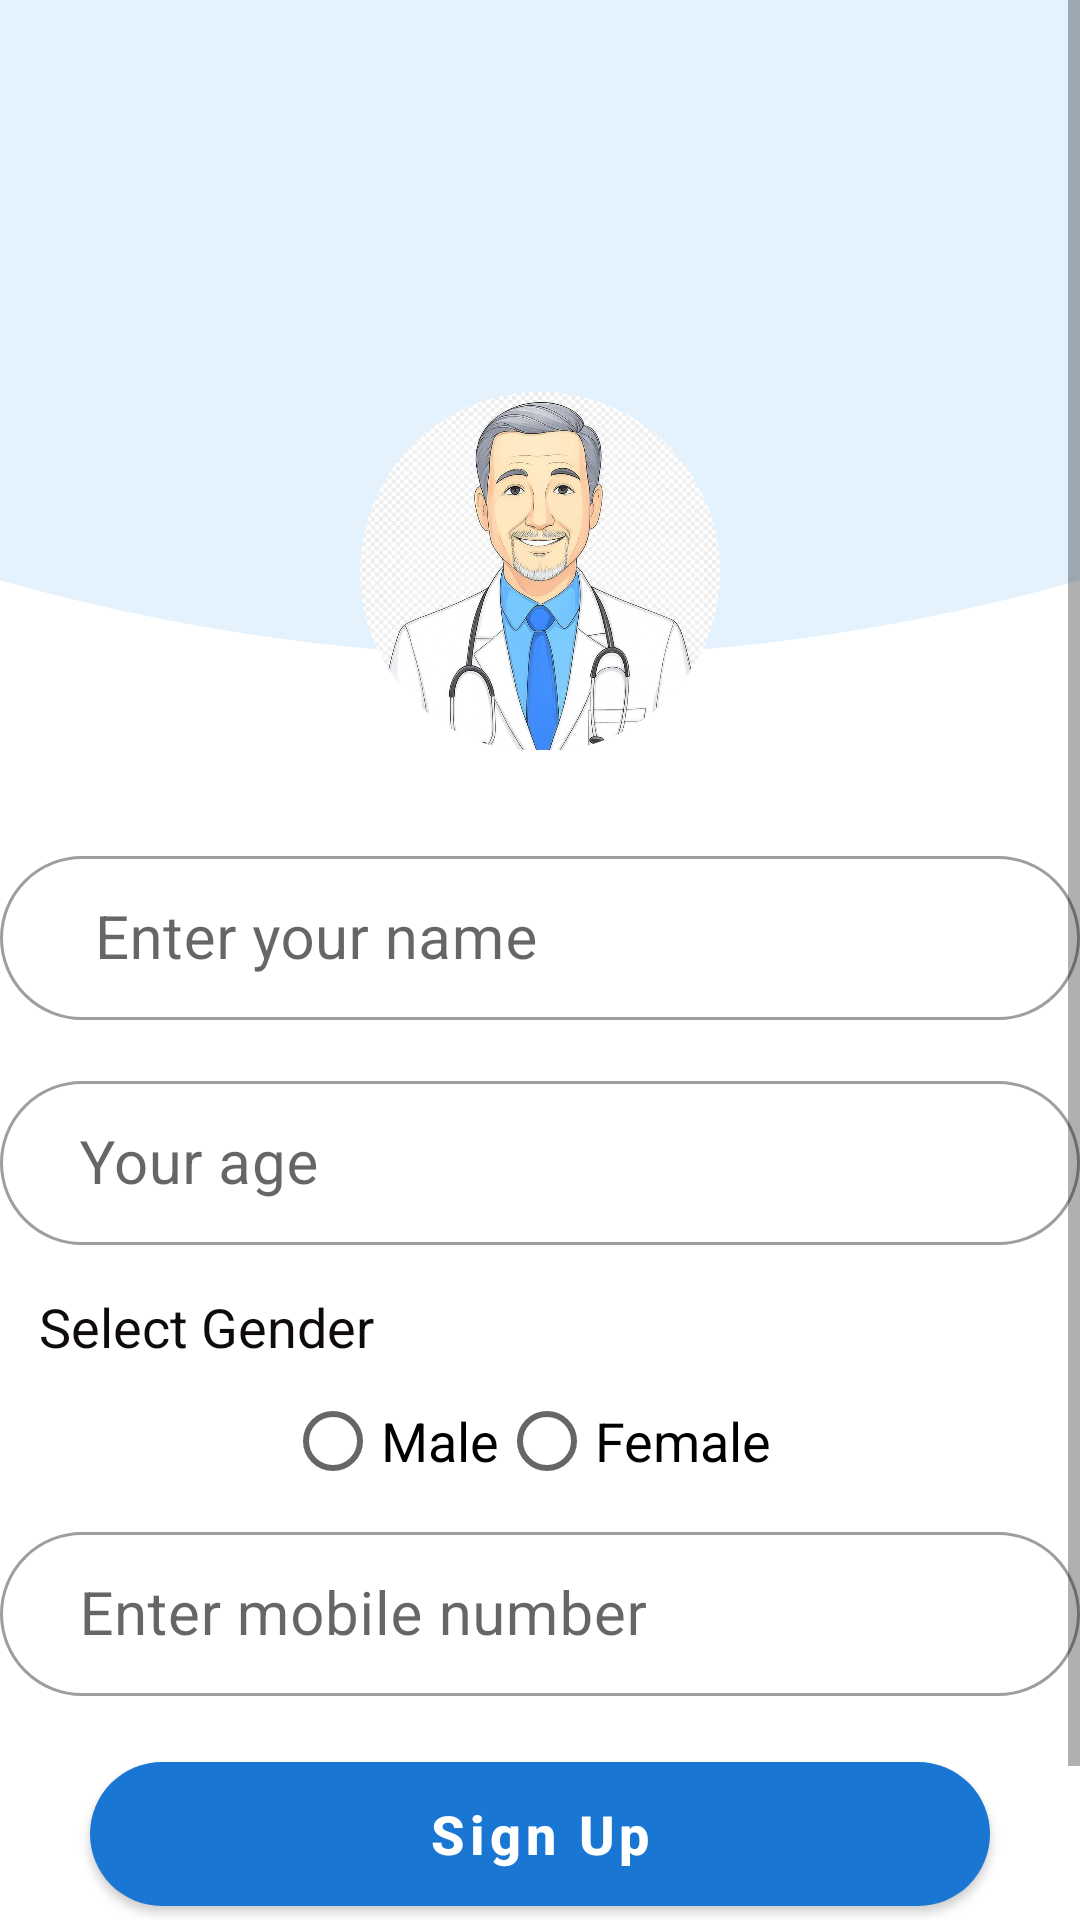

Icon click points for this 1080px×1920px phone screenshot, format (x=x, y=y):
Profile Image: (x=540, y=571)
